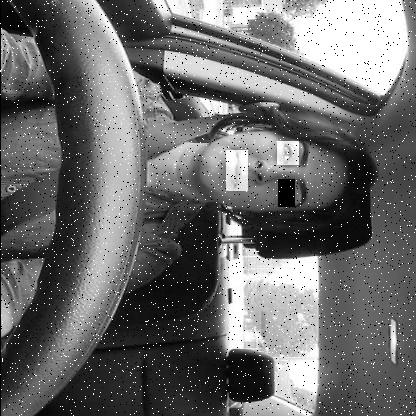seatbelt: (0, 107, 388, 243)
